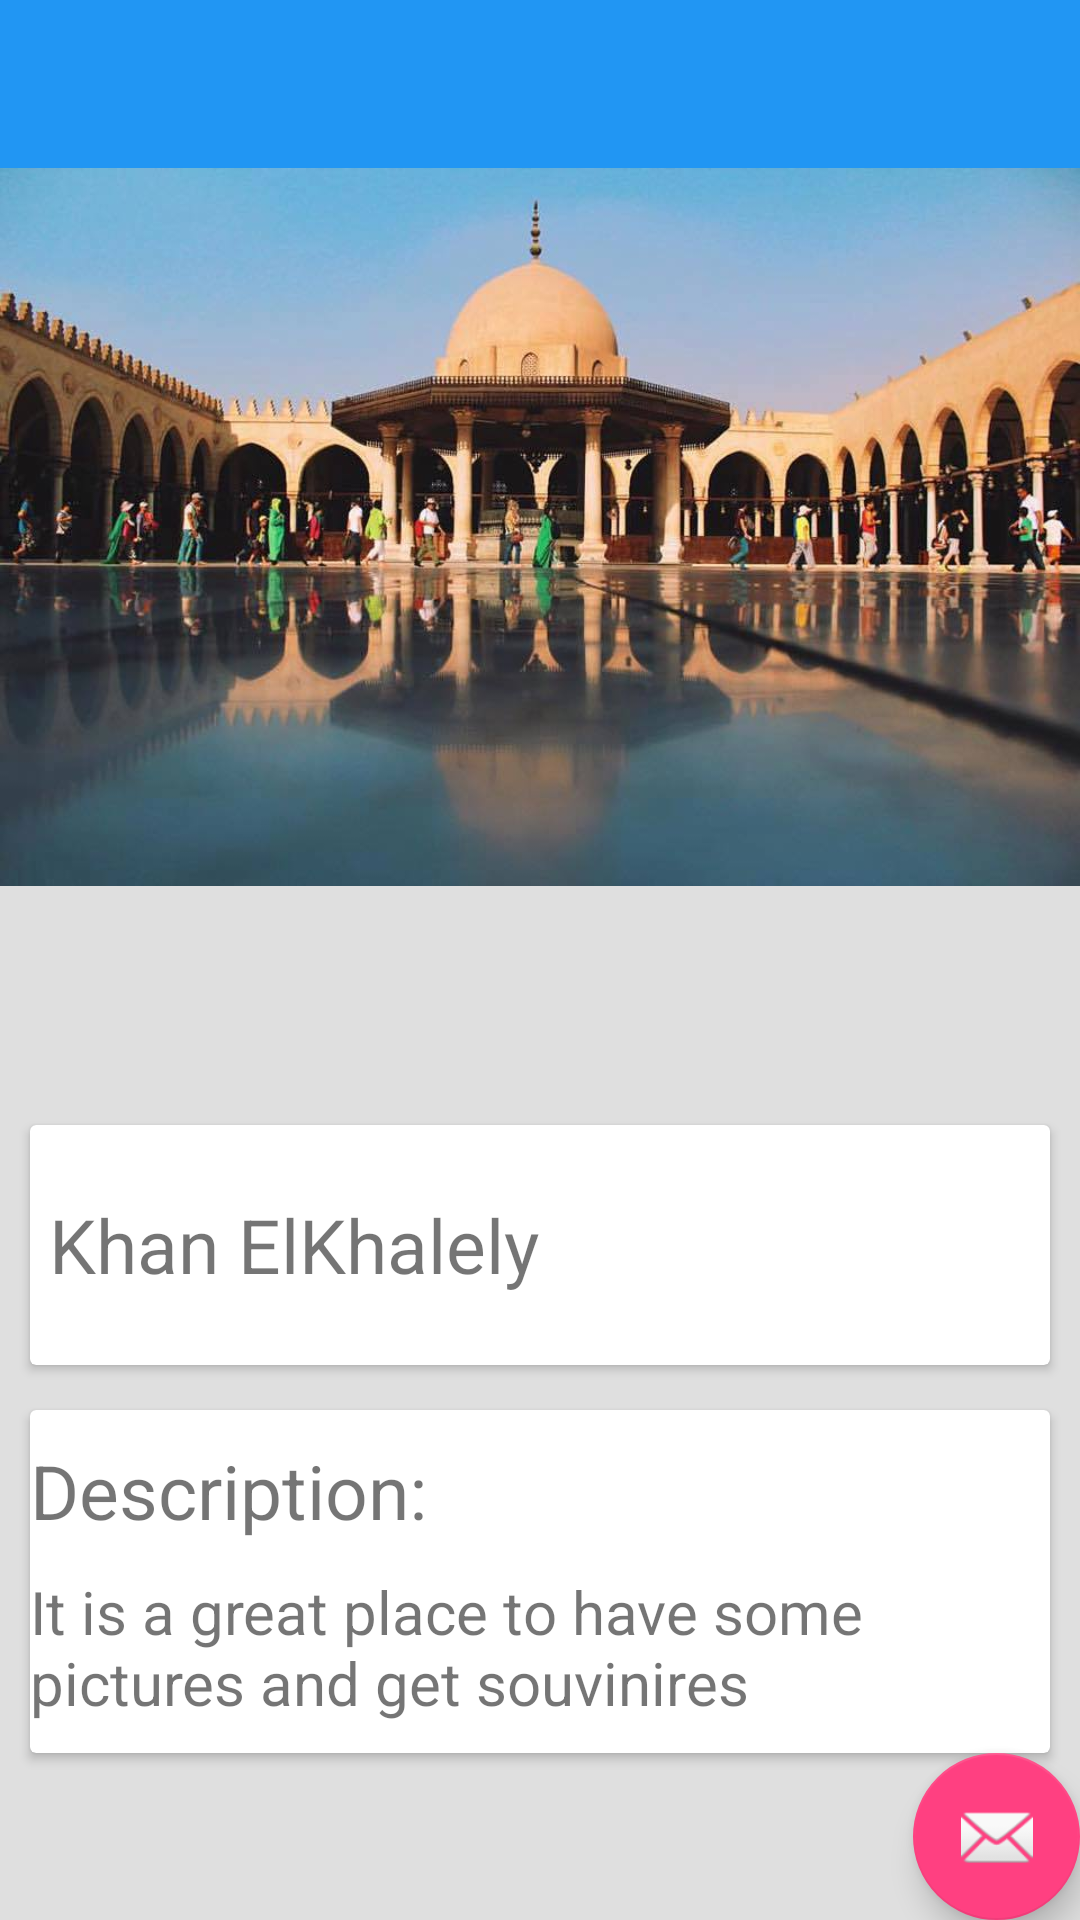

Screen size 1080px x 1920px. Icon name, then its center in pixels as point (x, y):
email: point (996, 1836)
